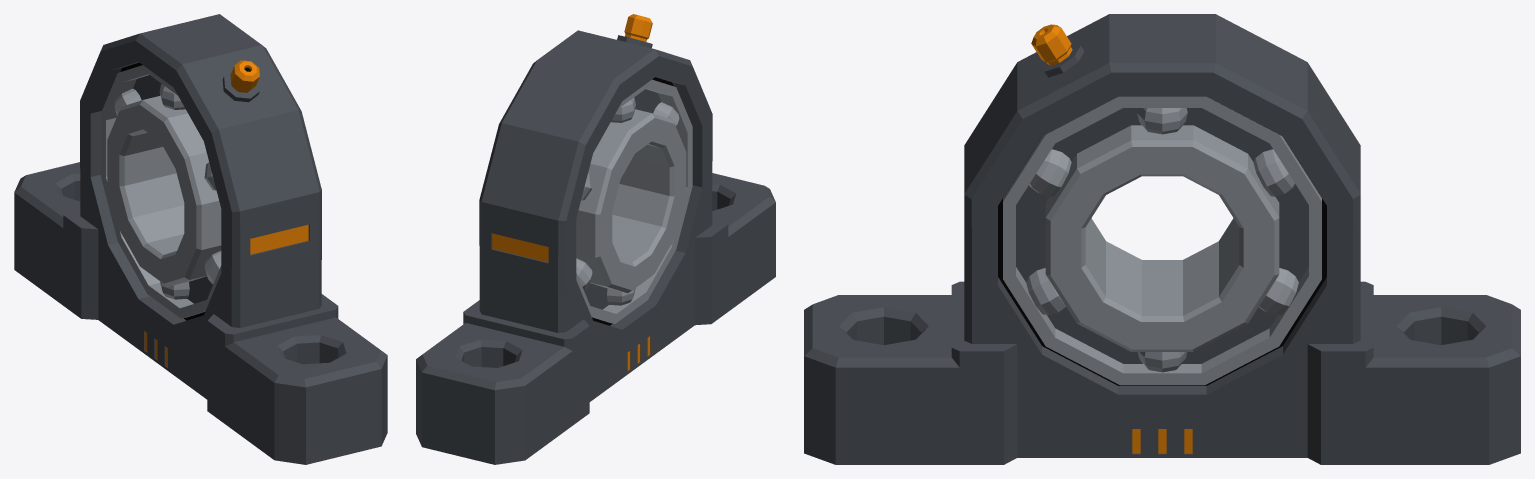
The model's file is SM_Industrial_Bearing.fbx.
3 views of the same model, side by side, from view 1: azimuth 30°, elevation 25°; view 2: azimuth 150°, elevation 25°; view 3: azimuth 270°, elevation 25° (orthographic). The views are drawn at different scales.
Parts seen in each view (by area): view 1: SM_Industrial_Bearing; view 2: SM_Industrial_Bearing; view 3: SM_Industrial_Bearing.
Part boxes in pixels (x1,y1,x2,y2): SM_Industrial_Bearing: [14, 14, 387, 464]; SM_Industrial_Bearing: [416, 14, 775, 464]; SM_Industrial_Bearing: [804, 14, 1520, 464].
Size of the model in its own units: 6.87 by 18.63 by 29.97.
